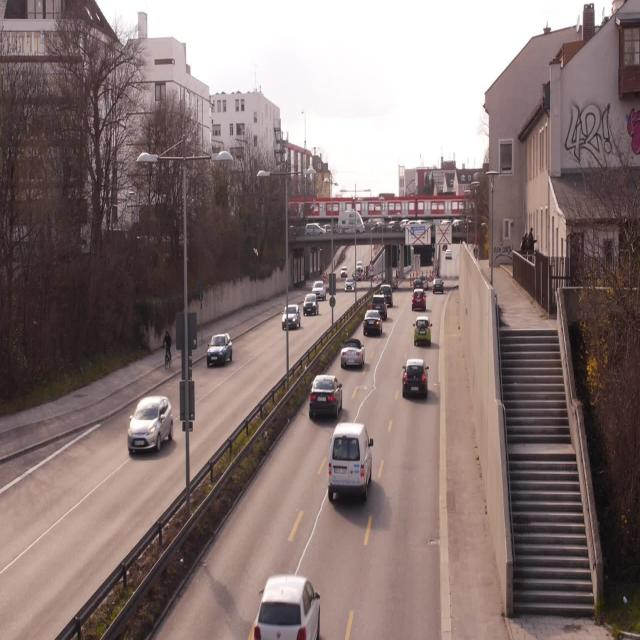Car: (255, 569, 322, 640), (328, 422, 373, 512), (119, 397, 177, 459), (307, 368, 344, 422), (394, 353, 434, 400), (208, 323, 235, 376), (339, 336, 366, 372), (412, 308, 436, 348), (280, 299, 304, 334), (361, 308, 385, 335), (407, 282, 429, 311), (376, 273, 390, 314), (300, 289, 320, 315), (431, 276, 448, 302), (312, 281, 324, 295)
